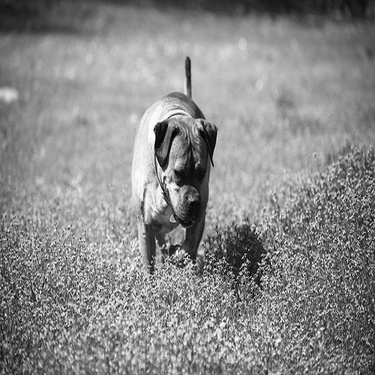dog: (121, 47, 222, 275)
